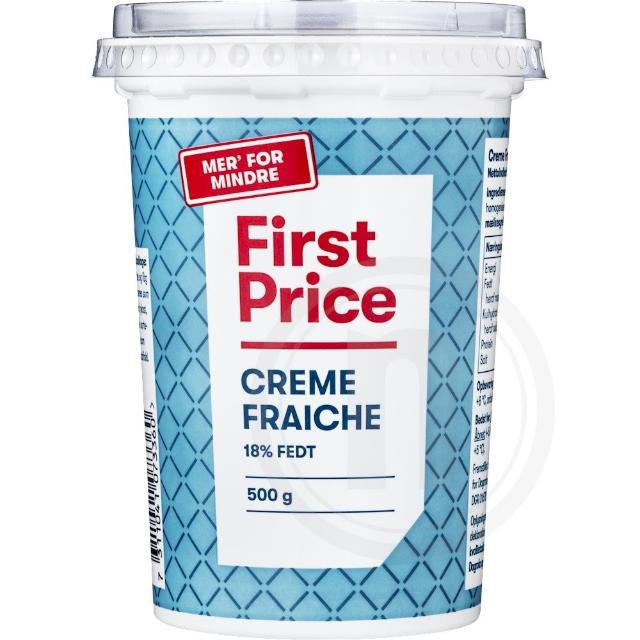creme fraiche: (78, 2, 560, 640)
